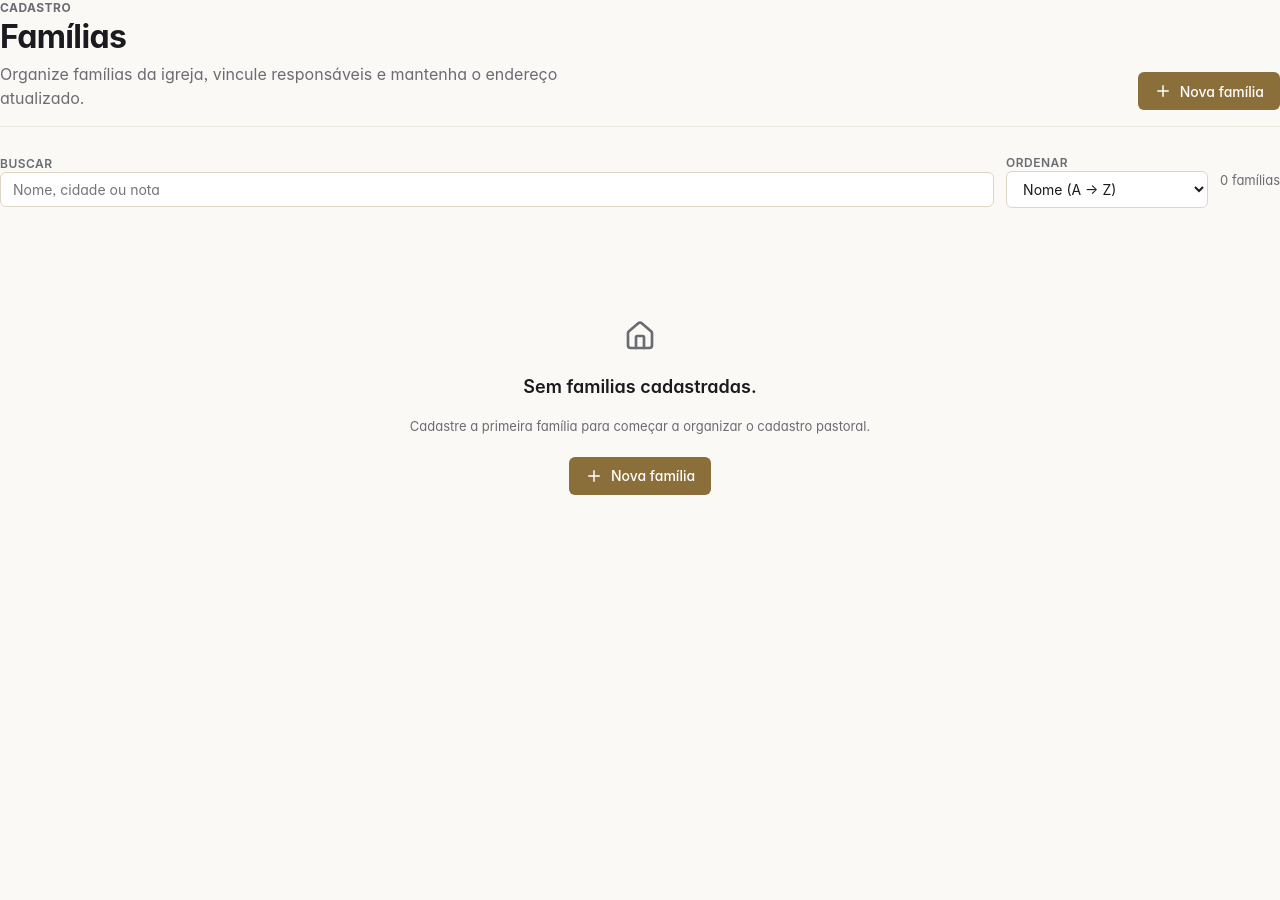
Test: HouseholdsView › creates a new household when the form is submitted
The image size is (1280, 900).
Click the 1st button "Nova família" at (1209, 91), box [1138,72,1279,110]
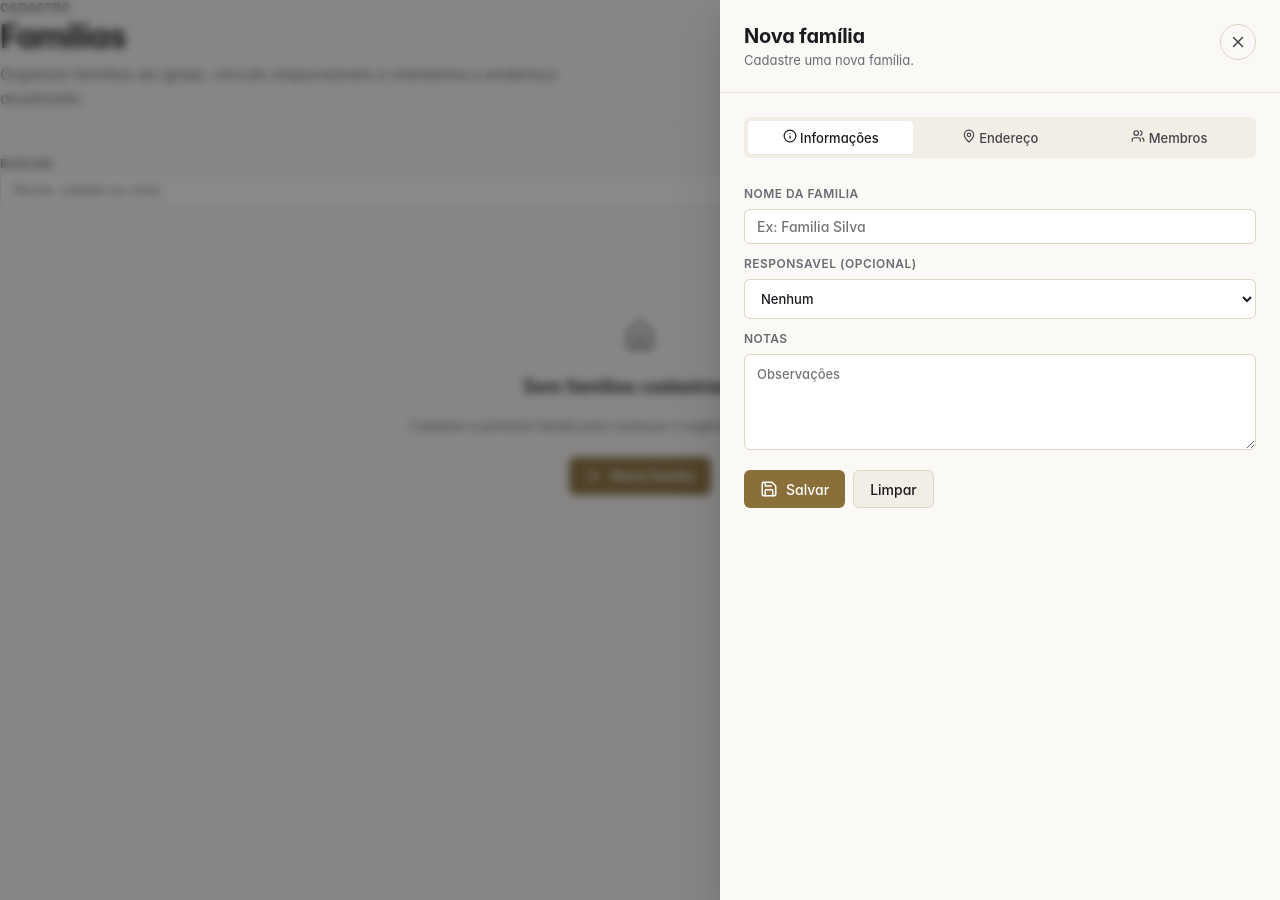
Type "Familia Nova" into the field labelled "Nome da familia" at (1000, 226), box [744,209,1256,244]
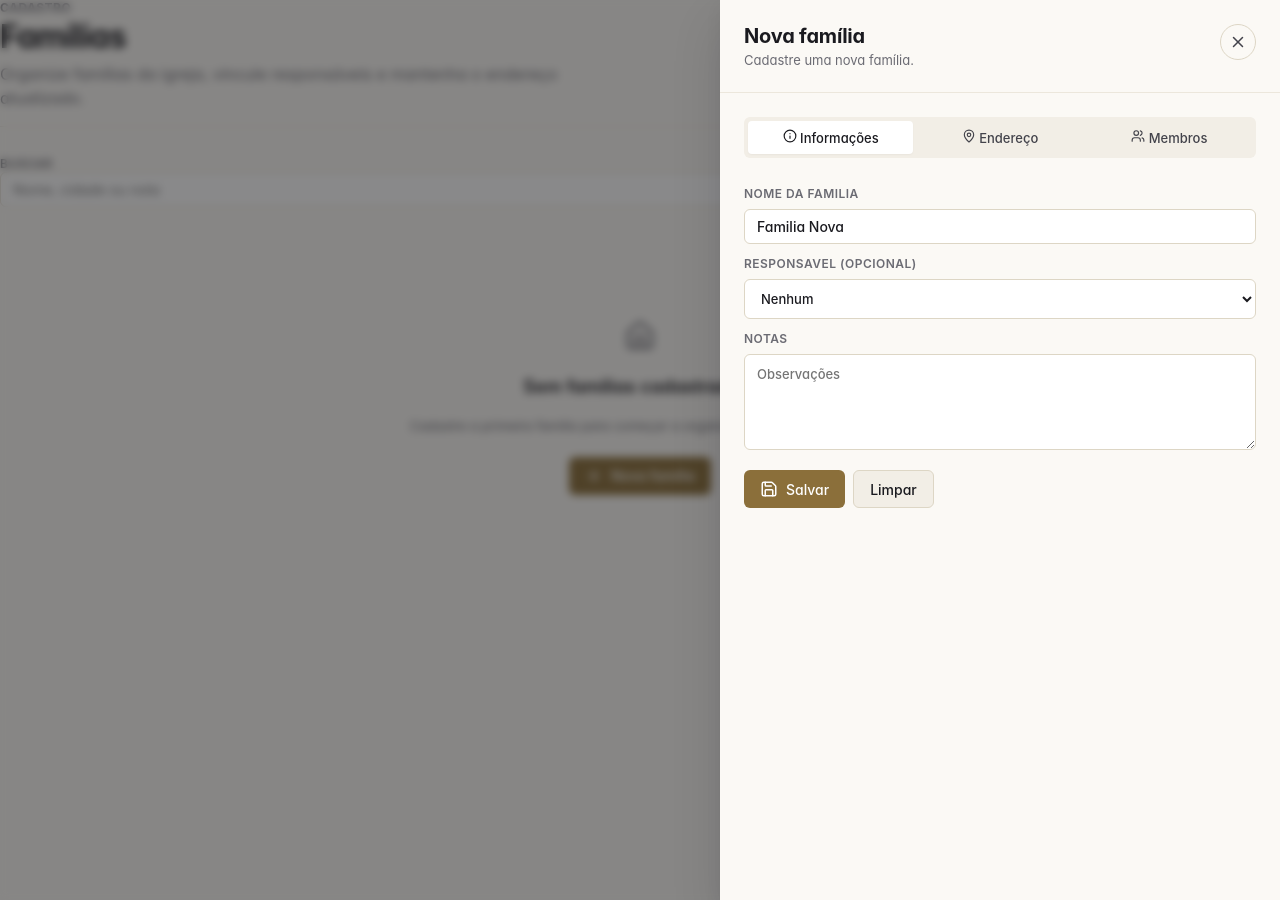
Click the tab "Endereço" at (1000, 138), box [917,121,1083,154]
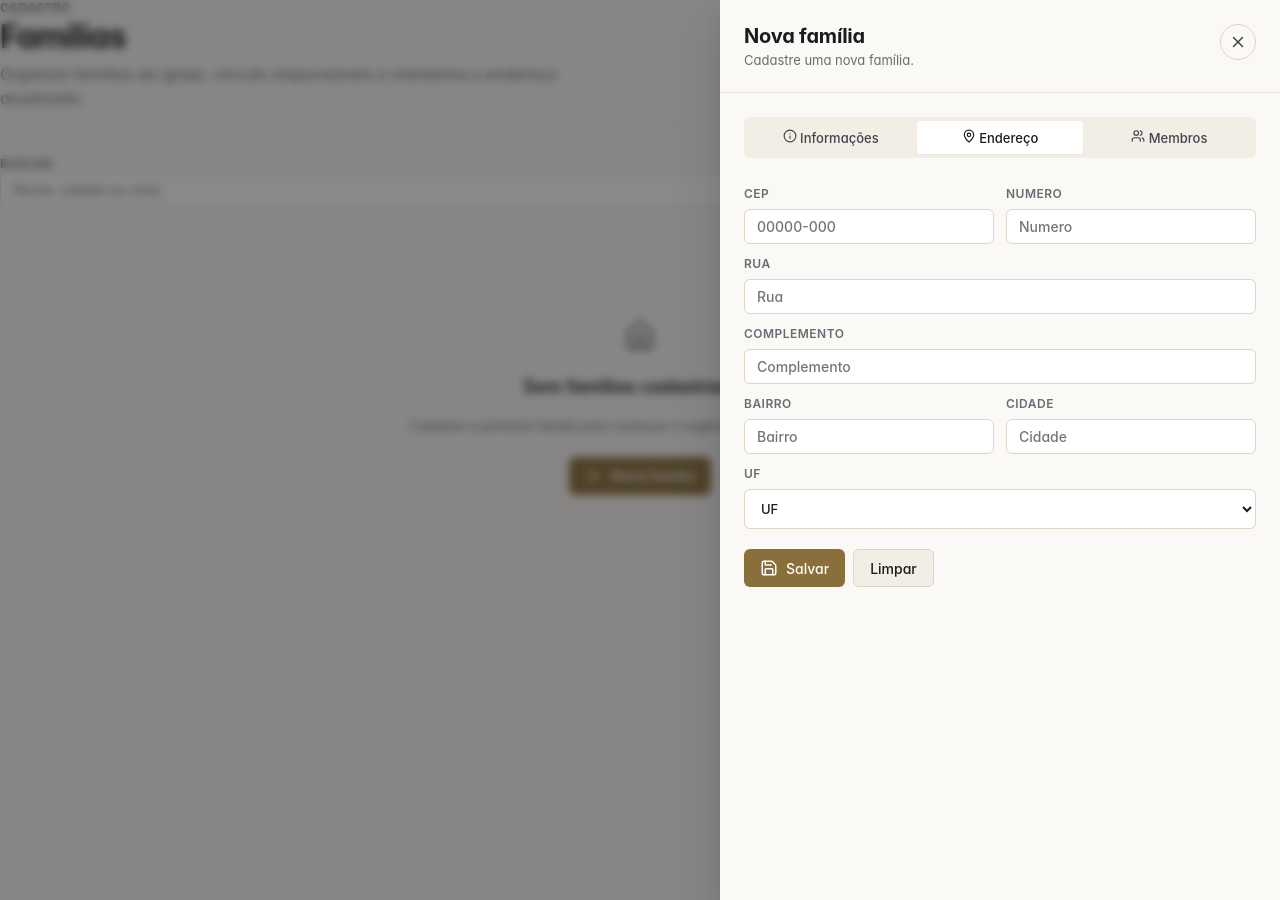
Type "Rua das Flores" into the field labelled "Rua" at (1000, 296), box [744,279,1256,314]
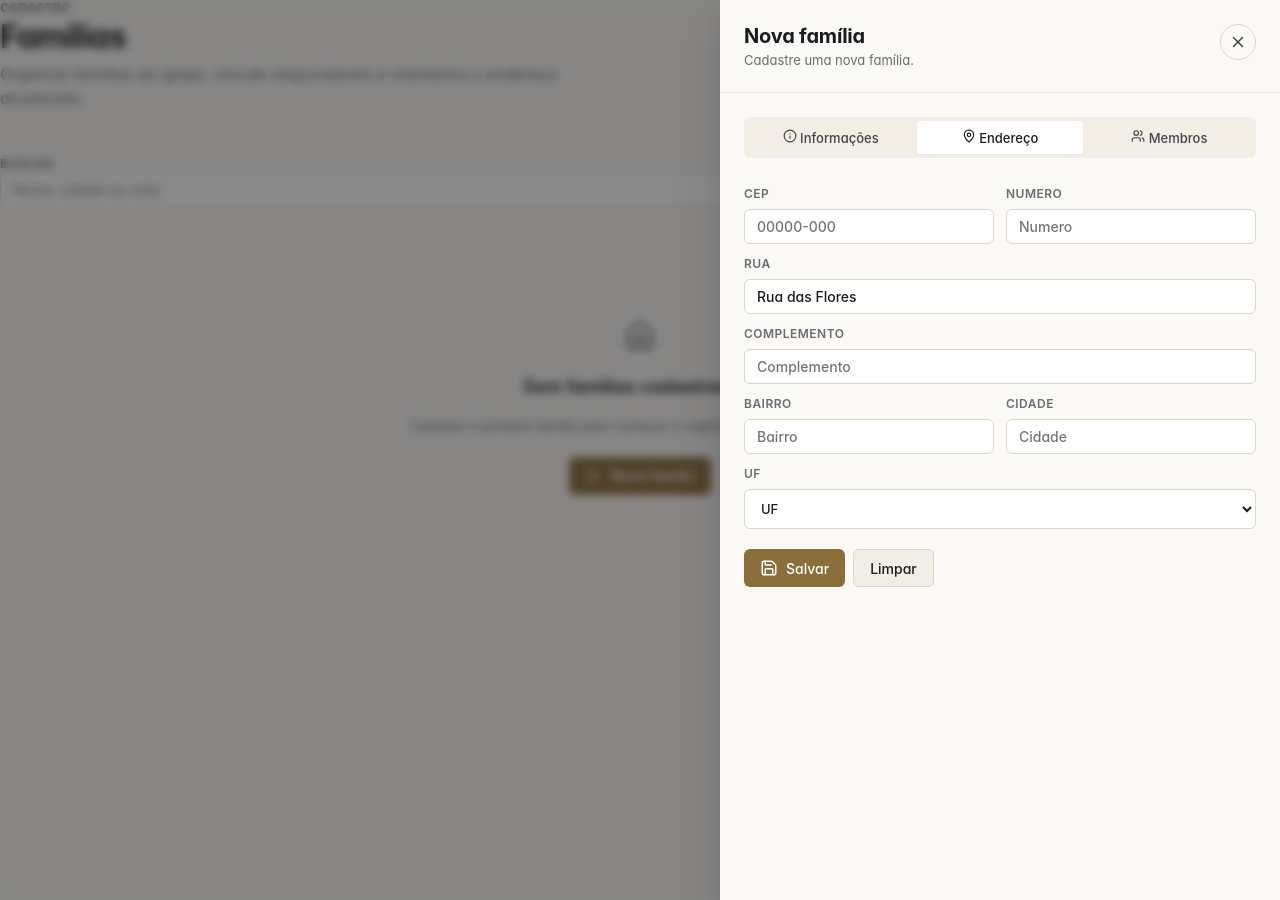
Submit the form "Salvar", box [744,117,1256,587]
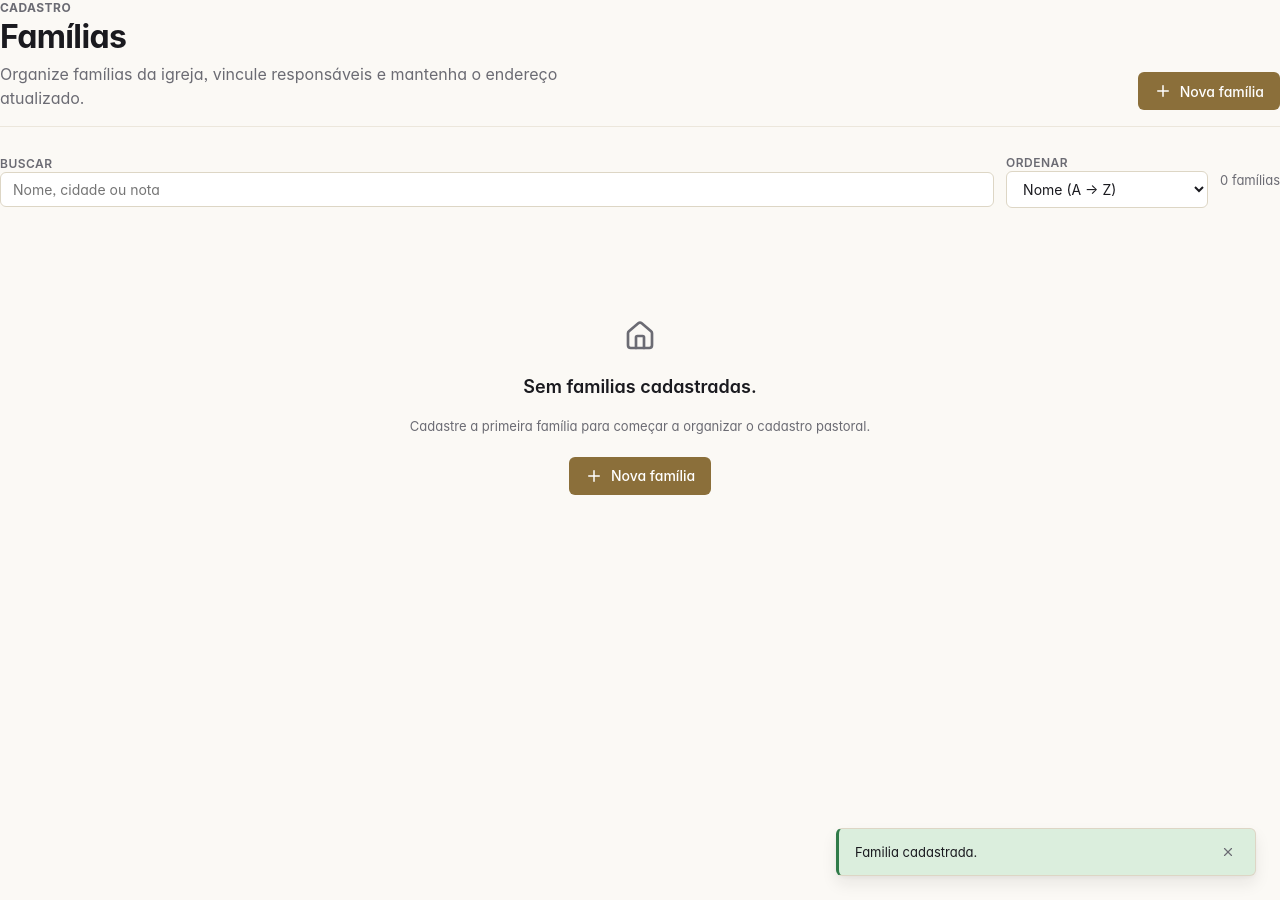
Expected: the text "Familia cadastrada." is shown, [855,844,977,860]
